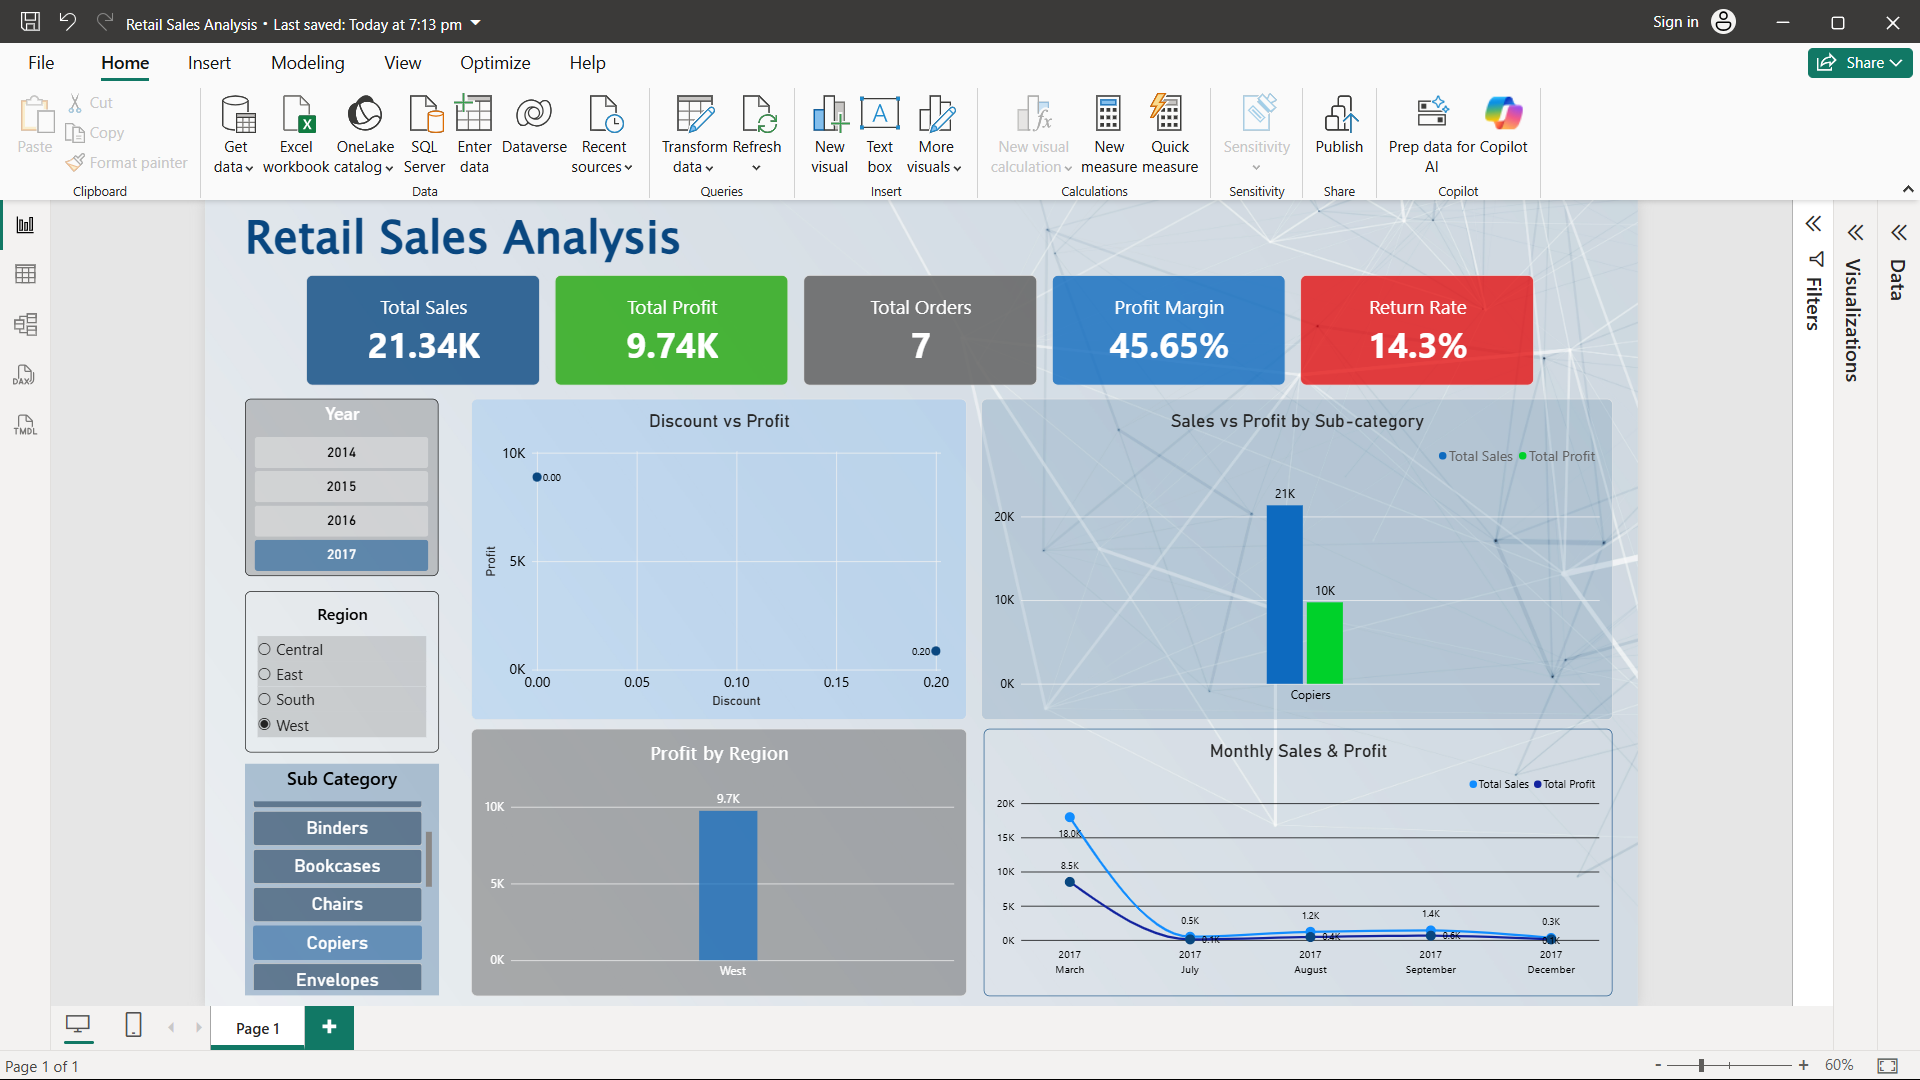

The page's visual inventory and layout, read from the dashboard file:
{"tool":"powerbi","page":{"name":"Page 1","canvas":[1920,1080],"ordinal":0},"visuals":[{"type":"textbox","title":"Retail Sales Analysis","box":[54,5.4,675,95.9],"z":0},{"type":"cardVisual","fields":{"Data":["public sales_clean.Total Sales","public sales_clean.Total Profit","public sales_clean.Total Orders","public sales_clean.Profit Margin","public sales_clean.Return Rate"]},"box":[136,100,1648,148],"z":1000},{"type":"lineChart","title":"Monthly Sales & Profit","fields":{"Y":["public sales_clean.Total Sales","public sales_clean.Total Profit"],"Category":["public sales_clean.Month Start.Variation.Date Hierarchy.Month","public sales_clean.Month Year"]},"box":[1044,708,842,358],"z":2000},{"type":"advancedSlicerVisual","fields":{"Values":["public sales_clean.order_date.Variation.Date Hierarchy.Year"]},"box":[54,266.6,259.4,237.7],"z":3000},{"type":"clusteredColumnChart","title":"Sales vs Profit by Sub-category","fields":{"Y":["public sales_clean.Total Sales","public sales_clean.Total Profit"],"Category":["public products_clean.sub_category"]},"box":[1040,266,846,430],"z":4000},{"type":"clusteredColumnChart","title":"Profit by Region","fields":{"Y":["public sales_clean.Total Profit"],"Category":["public customers_clean.region"]},"box":[356,708,664,358],"z":5000},{"type":"scatterChart","title":"Discount vs Profit","fields":{"Y":["public sales_clean.Total Profit"],"X":["public sales_clean.discount"]},"box":[356,266,664,430],"z":6000},{"type":"listSlicer","title":"Region","fields":{"Values":["public customers_clean.region"]},"box":[54,524,260,216],"z":7000},{"type":"advancedSlicerVisual","title":"Sub Category","fields":{"Values":["public products_clean.sub_category"]},"box":[54,756,260,310],"z":8000}]}

Visuals, with their boxes on the page's 1920x1080 design canvas (x1, y1, x2, y2). These are canvas units, not pixel positions in the 1920x1080 screenshot, which may show the page scaled, cropped or inside an application window:
"Retail Sales Analysis" textbox: (54,5,729,101)
cardVisual - public sales_clean.Total Sales x public sales_clean.Total Profit: (136,100,1784,248)
"Monthly Sales & Profit" lineChart: (1044,708,1886,1066)
advancedSlicerVisual - public sales_clean.order_date.Variation.Date Hierarchy.Year: (54,267,313,504)
"Sales vs Profit by Sub-category" clusteredColumnChart: (1040,266,1886,696)
"Profit by Region" clusteredColumnChart: (356,708,1020,1066)
"Discount vs Profit" scatterChart: (356,266,1020,696)
"Region" listSlicer: (54,524,314,740)
"Sub Category" advancedSlicerVisual: (54,756,314,1066)
